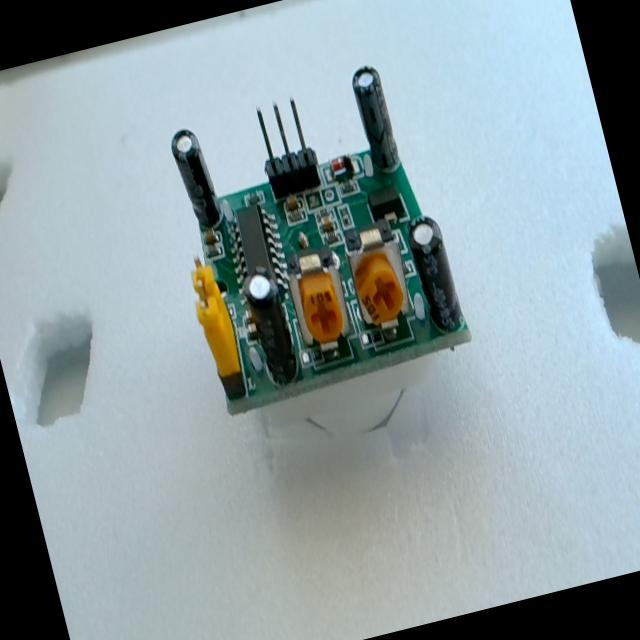Electrolytic capacitor: (397, 200, 475, 362), (344, 52, 420, 196), (233, 258, 306, 390), (164, 123, 230, 240)
IC: (220, 202, 294, 298)
